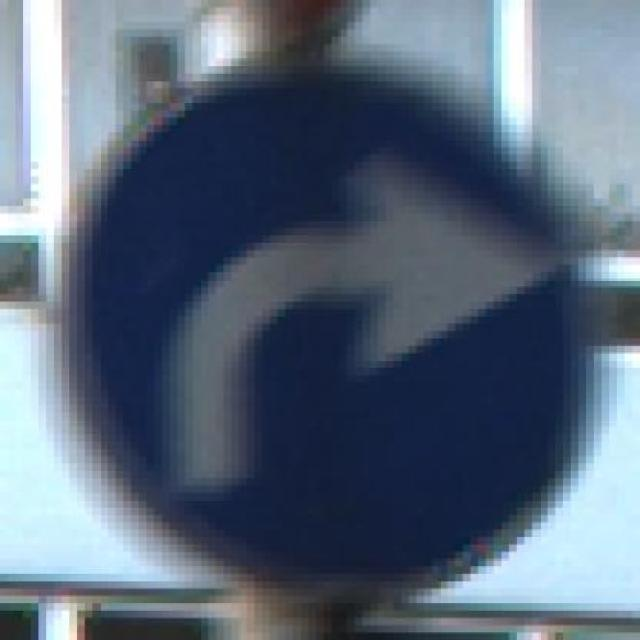Turn right ahead: (43, 60, 606, 597)
